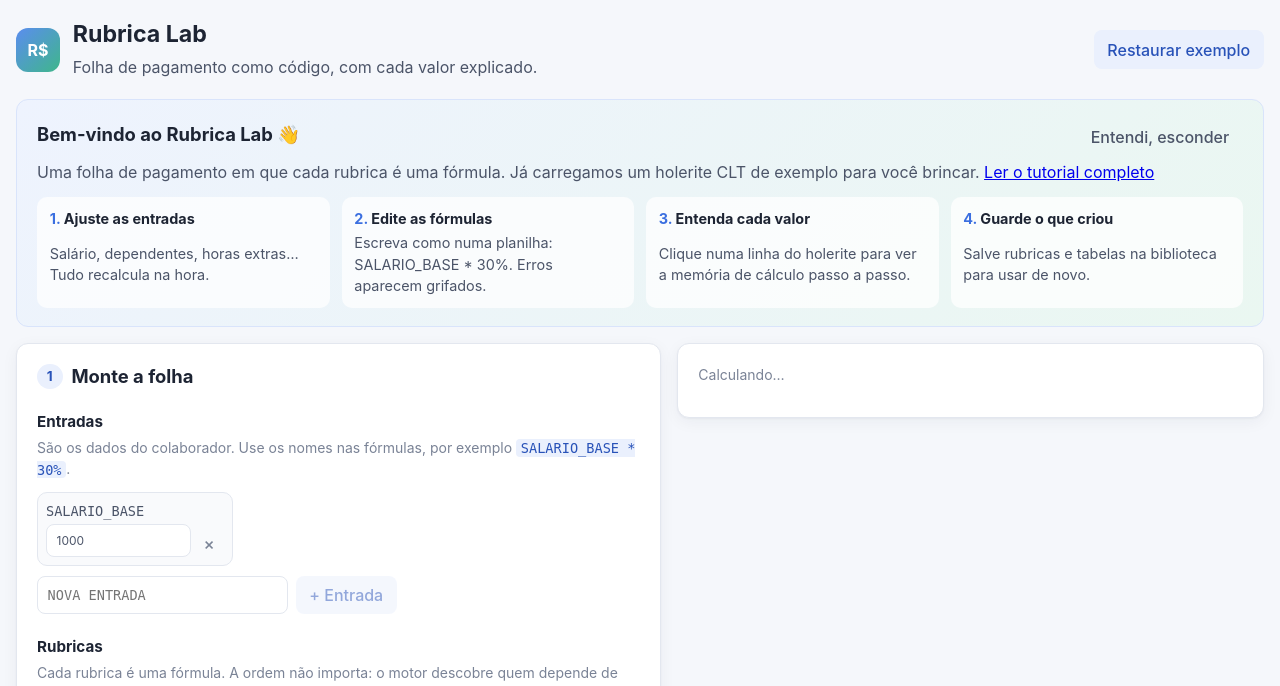
Scenario: App › hides the guide and remembers it
Later steps or results of the test are not shown.
Click the button "Entendi, esconder".
click(1160, 137)  # box x1=1077 y1=118 x2=1243 y2=157
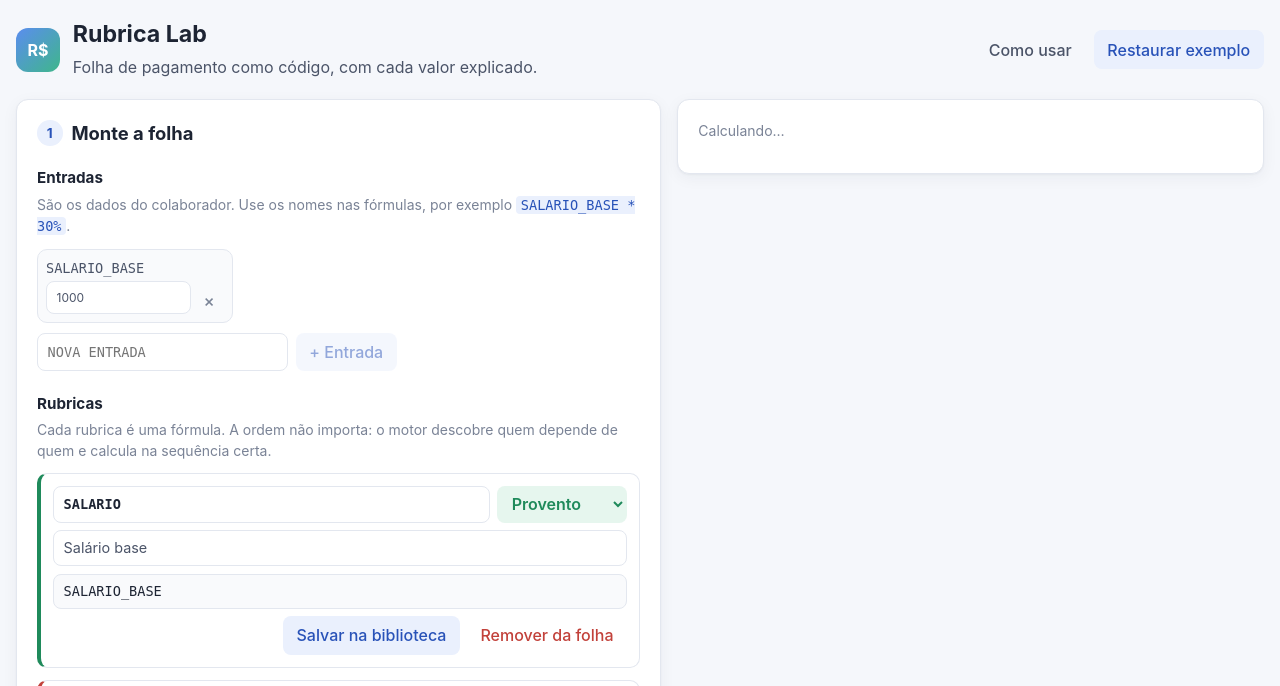
Expected: the heading "Bem-vindo" is gone
